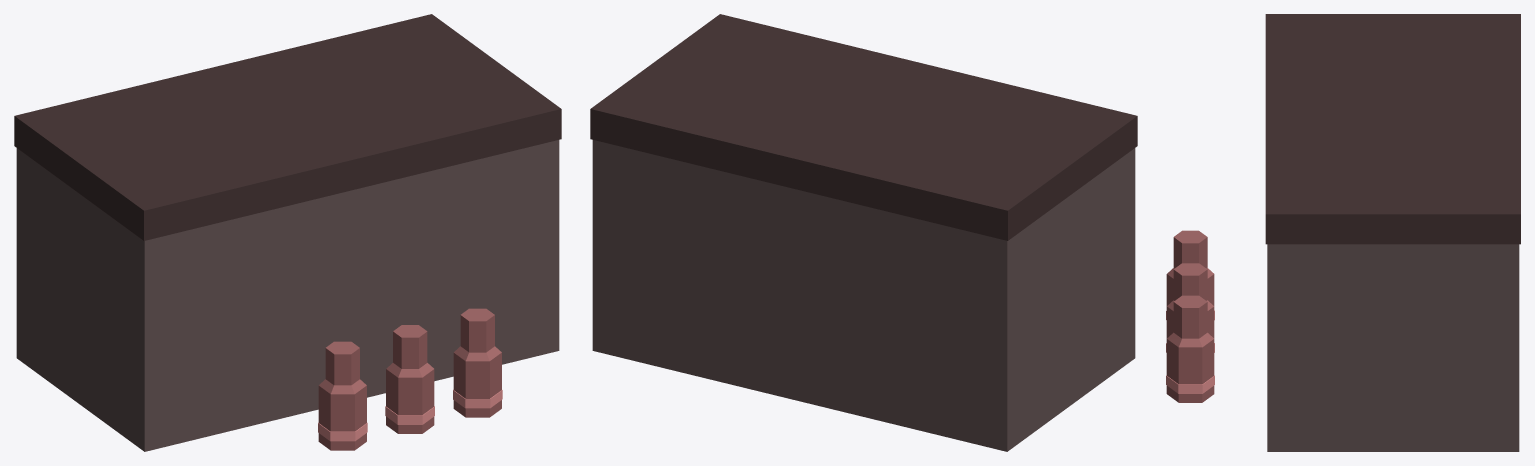
File: ce_ammo2_flare_bio_c.obj
3 views of the same model, side by side, from view 1: azimuth 30°, elevation 25°; view 2: azimuth 150°, elevation 25°; view 3: azimuth 270°, elevation 25° (orthographic).
Parts seen in each view (by area): view 1: ce_ammo2_flare_bio_c_0, ce_ammo2_flare_bio_c_1, ce_ammo2_flare_bio_c_9, ce_ammo2_flare_bio_c_4, ce_ammo2_flare_bio_c_14, ce_ammo2_flare_bio_c_6, ce_ammo2_flare_bio_c_16, ce_ammo2_flare_bio_c_11, ce_ammo2_flare_bio_c_3; view 2: ce_ammo2_flare_bio_c_0, ce_ammo2_flare_bio_c_1; view 3: ce_ammo2_flare_bio_c_1, ce_ammo2_flare_bio_c_0, ce_ammo2_flare_bio_c_14, ce_ammo2_flare_bio_c_16, ce_ammo2_flare_bio_c_6, ce_ammo2_flare_bio_c_11, ce_ammo2_flare_bio_c_13, ce_ammo2_flare_bio_c_12, ce_ammo2_flare_bio_c_15, ce_ammo2_flare_bio_c_9, ce_ammo2_flare_bio_c_4.
Part boxes in pixels (x1,y1,x2,y2): ce_ammo2_flare_bio_c_0: [16, 140, 559, 451]; ce_ammo2_flare_bio_c_1: [14, 14, 561, 240]; ce_ammo2_flare_bio_c_9: [386, 369, 434, 415]; ce_ammo2_flare_bio_c_4: [318, 385, 366, 431]; ce_ammo2_flare_bio_c_14: [453, 352, 501, 398]; ce_ammo2_flare_bio_c_6: [325, 341, 359, 385]; ce_ammo2_flare_bio_c_16: [460, 308, 494, 352]; ce_ammo2_flare_bio_c_11: [393, 325, 427, 368]; ce_ammo2_flare_bio_c_3: [318, 422, 367, 441]; ce_ammo2_flare_bio_c_0: [592, 140, 1135, 451]; ce_ammo2_flare_bio_c_1: [590, 14, 1137, 240]; ce_ammo2_flare_bio_c_1: [1265, 14, 1520, 244]; ce_ammo2_flare_bio_c_0: [1267, 244, 1519, 451]; ce_ammo2_flare_bio_c_14: [1166, 339, 1214, 384]; ce_ammo2_flare_bio_c_16: [1173, 295, 1207, 338]; ce_ammo2_flare_bio_c_6: [1173, 230, 1207, 268]; ce_ammo2_flare_bio_c_11: [1173, 263, 1207, 300]; ce_ammo2_flare_bio_c_13: [1166, 375, 1214, 393]; ce_ammo2_flare_bio_c_12: [1166, 385, 1214, 402]; ce_ammo2_flare_bio_c_15: [1167, 332, 1213, 347]; ce_ammo2_flare_bio_c_9: [1166, 306, 1214, 338]; ce_ammo2_flare_bio_c_4: [1166, 274, 1214, 305].
Size of the model in its own units: 0.866 by 0.48 by 0.6476.
